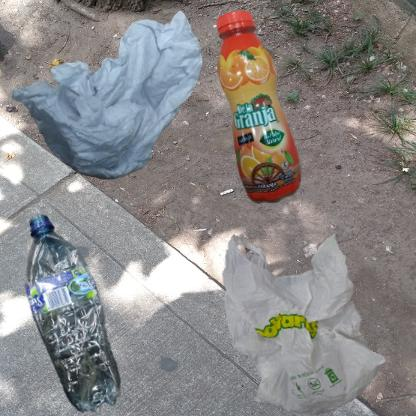bolsa: (213, 213, 401, 416)
botella: (10, 213, 144, 416), (213, 10, 305, 206)
papel: (10, 10, 203, 180)
